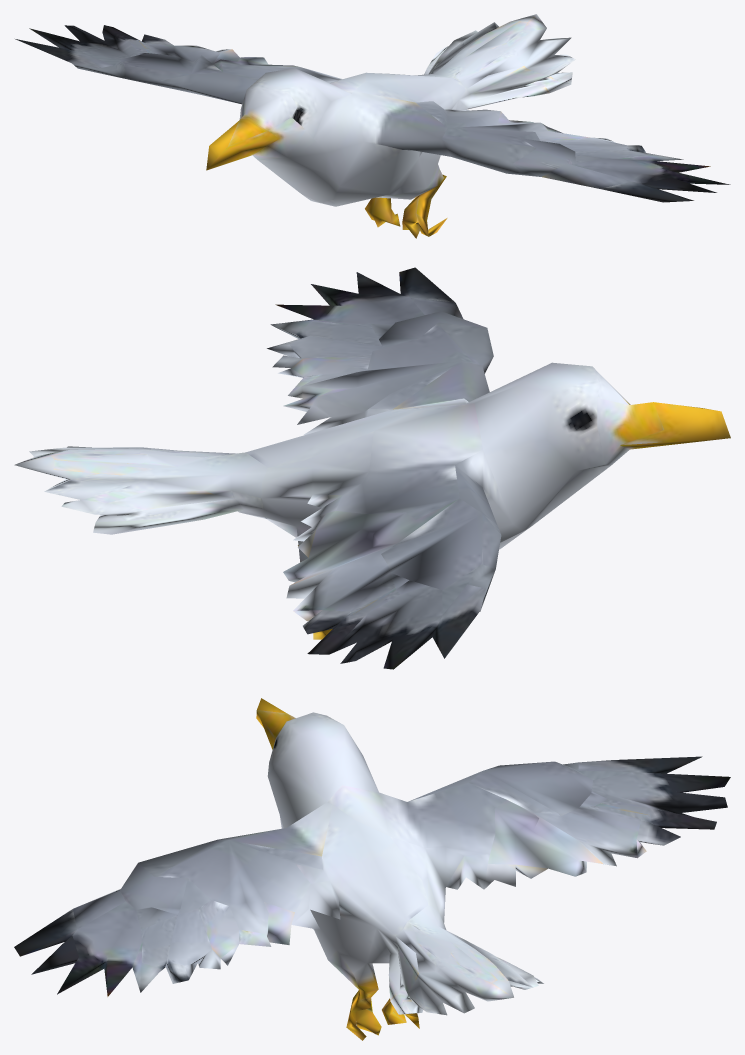
Rendered from bird_gull.glb.
3 views of the same model, one above another, from view 1: azimuth 30°, elevation 25°; view 2: azimuth 150°, elevation 25°; view 3: azimuth 270°, elevation 25° (orthographic). The views are drawn at different scales.
Visible parts, largest first — view 1: tripo_node_2e117695-bd9a-4703-b6dc-0fdd9238c93b; view 2: tripo_node_2e117695-bd9a-4703-b6dc-0fdd9238c93b; view 3: tripo_node_2e117695-bd9a-4703-b6dc-0fdd9238c93b.
Part boxes in pixels (bbox=[...]): tripo_node_2e117695-bd9a-4703-b6dc-0fdd9238c93b: bbox=[15, 14, 730, 238]; tripo_node_2e117695-bd9a-4703-b6dc-0fdd9238c93b: bbox=[14, 267, 730, 669]; tripo_node_2e117695-bd9a-4703-b6dc-0fdd9238c93b: bbox=[14, 698, 730, 1040].
Size of the model in its own units: 0.7773 by 0.341 by 0.982.
1 material, 1 textured.
